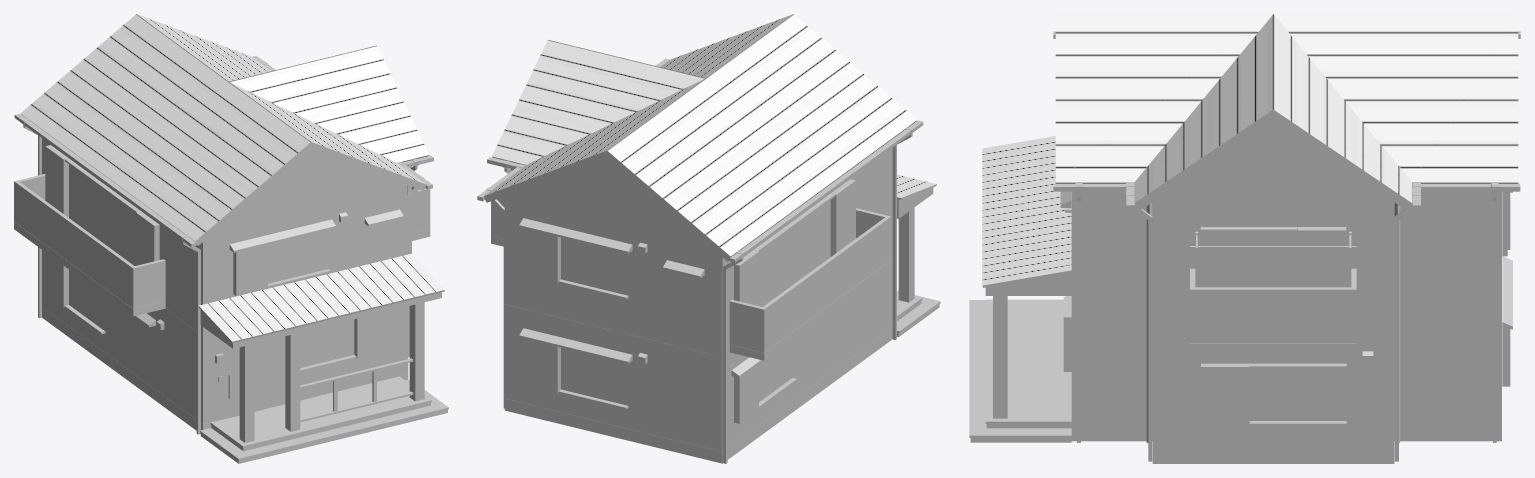
Rendered from House_2021_R.fbx.
The picture shows the model from 3 angles, left to right: view 1: azimuth 30°, elevation 25°; view 2: azimuth 150°, elevation 25°; view 3: azimuth 270°, elevation 25°; orthographic projection. The views are drawn at different scales.
Visible parts, largest first — view 1: House_2021_R; view 2: House_2021_R; view 3: House_2021_R.
Boxes of the visible parts, x1=… form: House_2021_R: x1=14, y1=14, x2=448, y2=463; House_2021_R: x1=477, y1=14, x2=940, y2=463; House_2021_R: x1=969, y1=14, x2=1520, y2=463.
Size of the model in its own units: 865 by 740 by 1023.
